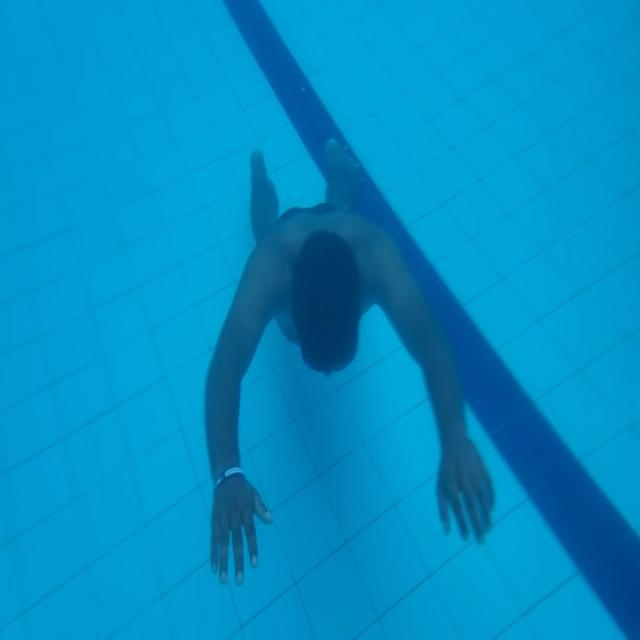Drowning: (204, 138, 494, 586)
